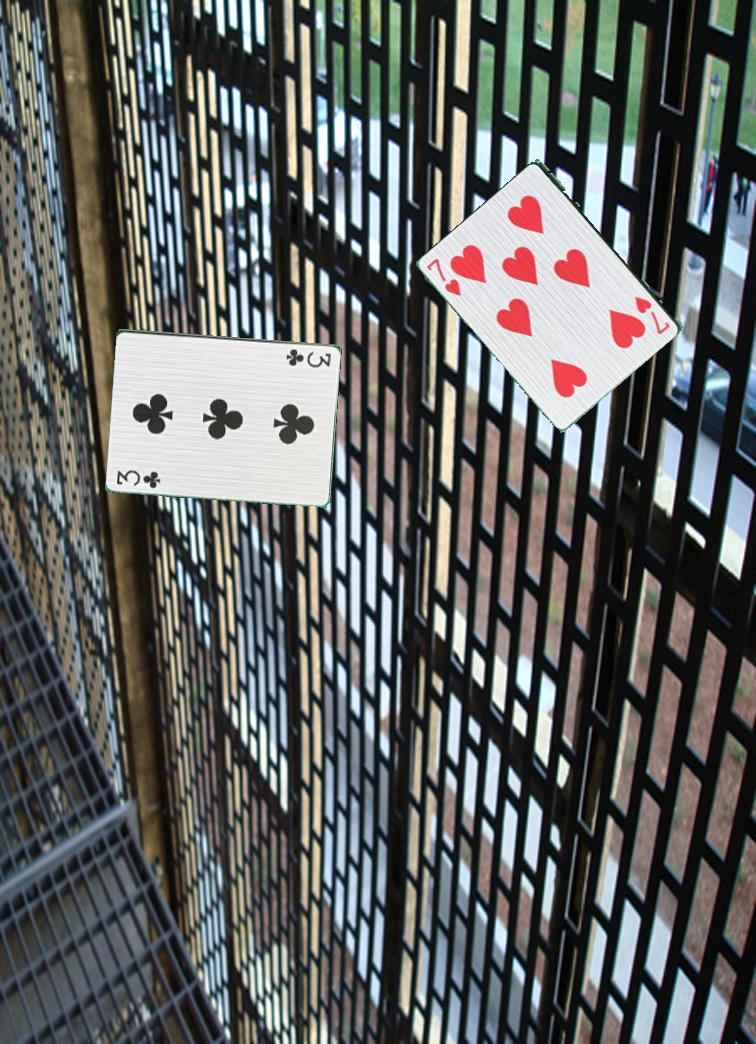3c: (278, 345, 334, 370), (113, 467, 168, 491)
7h: (423, 250, 473, 299), (631, 293, 675, 337)
